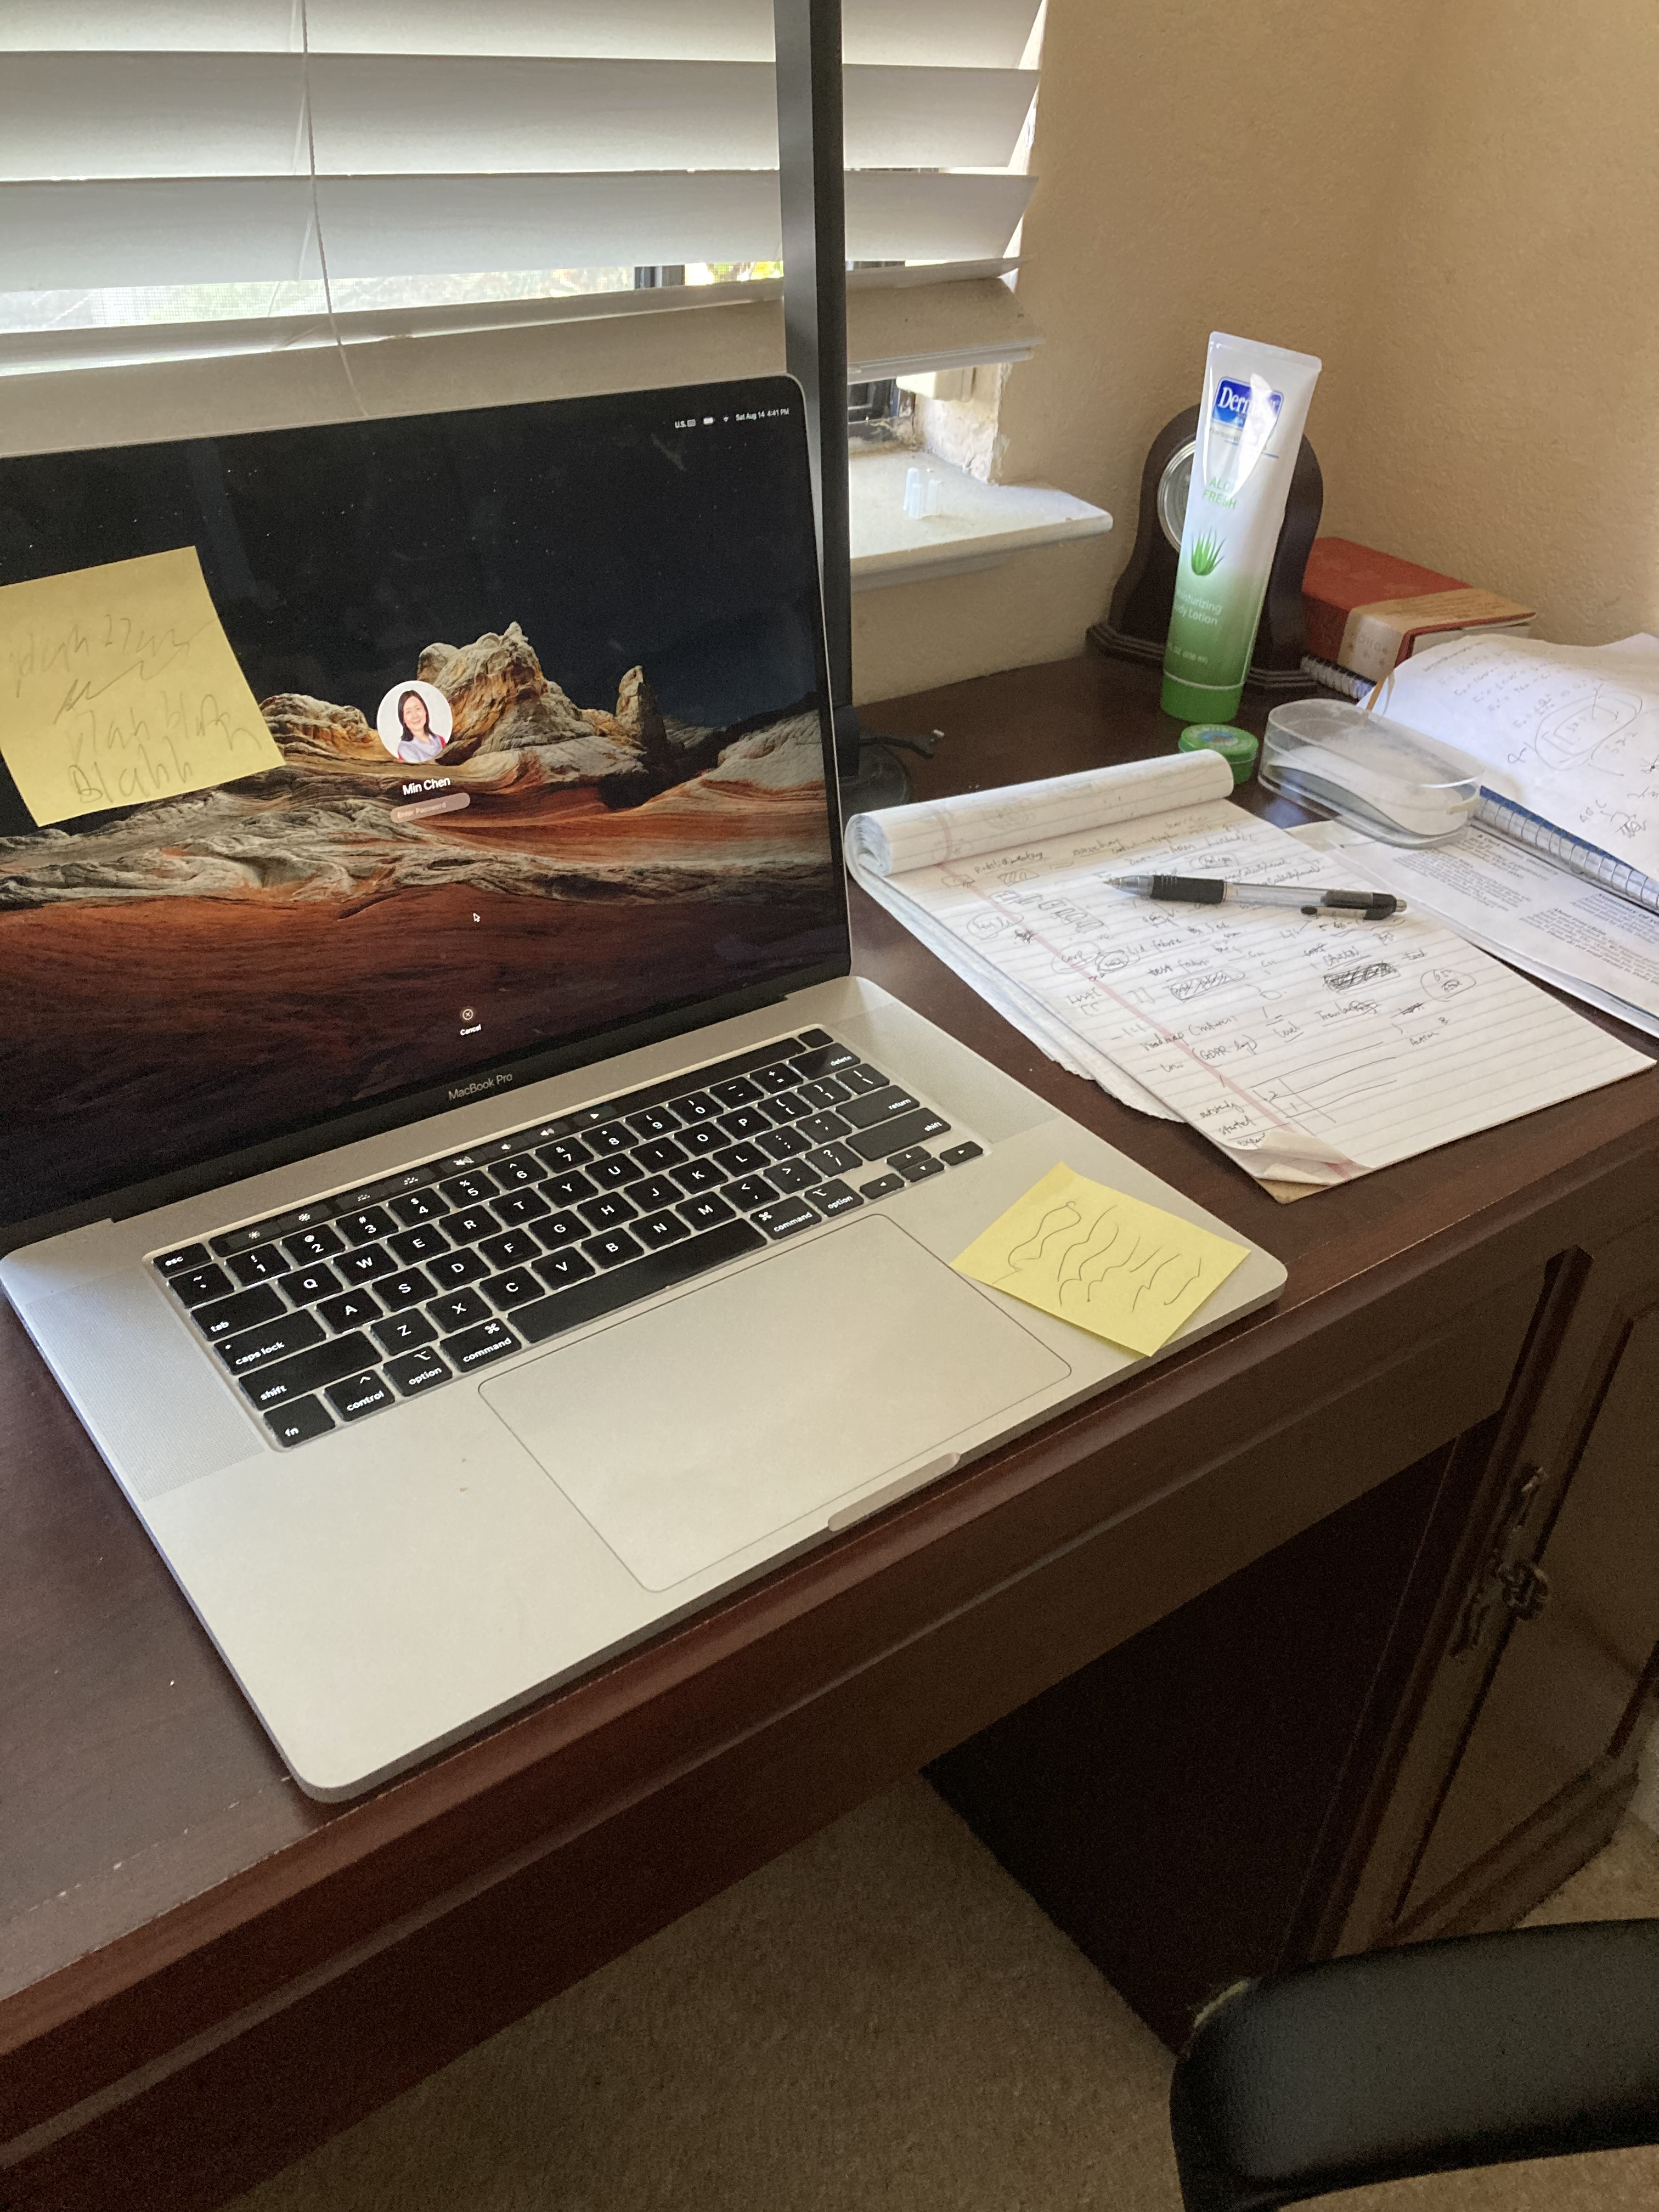Note: (5, 550, 286, 826), (957, 1167, 1258, 1359)
